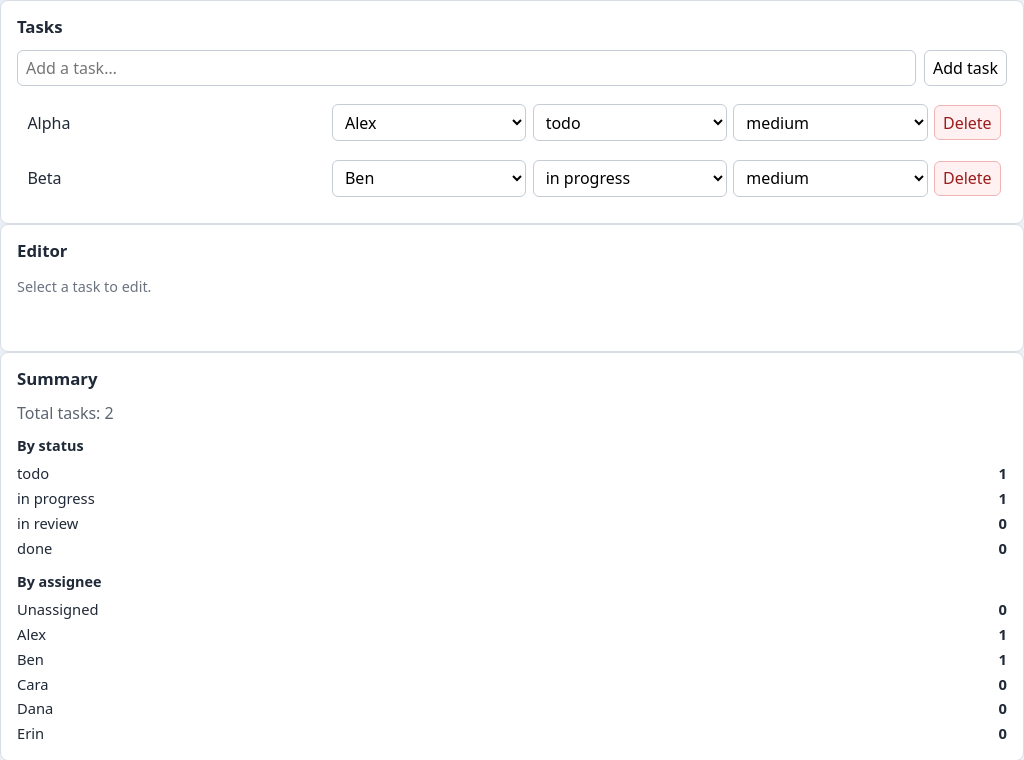
Test: Board integration › updates list/summary/grouping when assignee changes in the editor
Click the button "Alpha" at {"x": 49, "y": 123}, box [23,108,326,138]
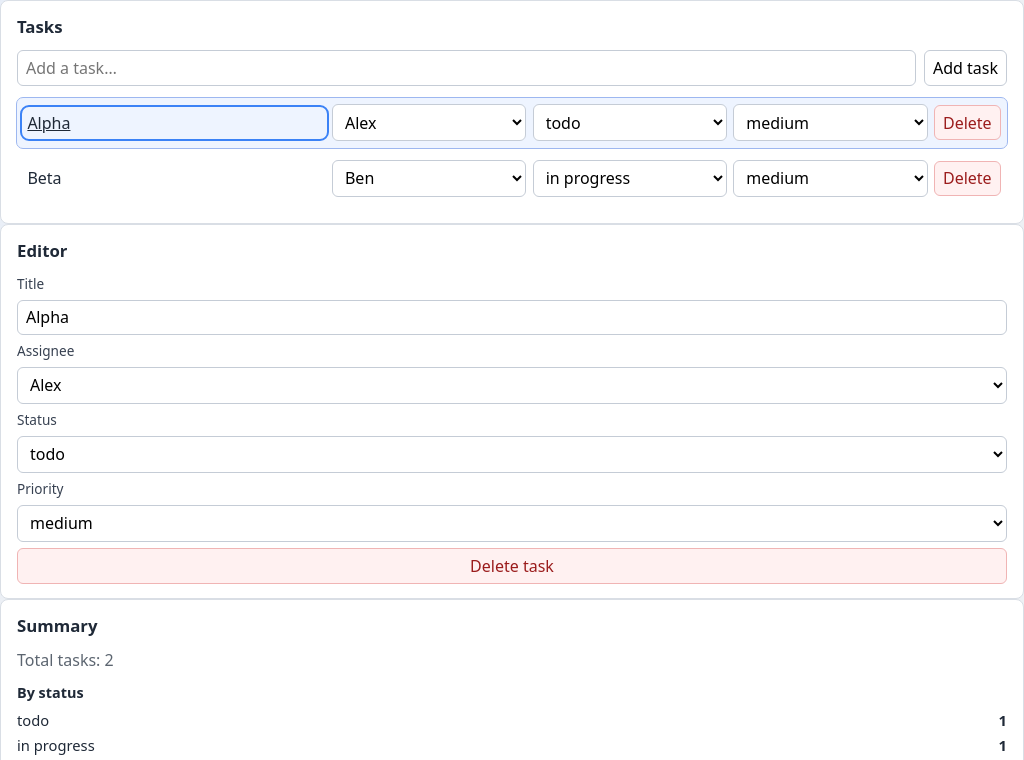
Select "Cara" in the dropdown labelled "Assignee" at {"x": 512, "y": 385}, box [17,367,1007,404]
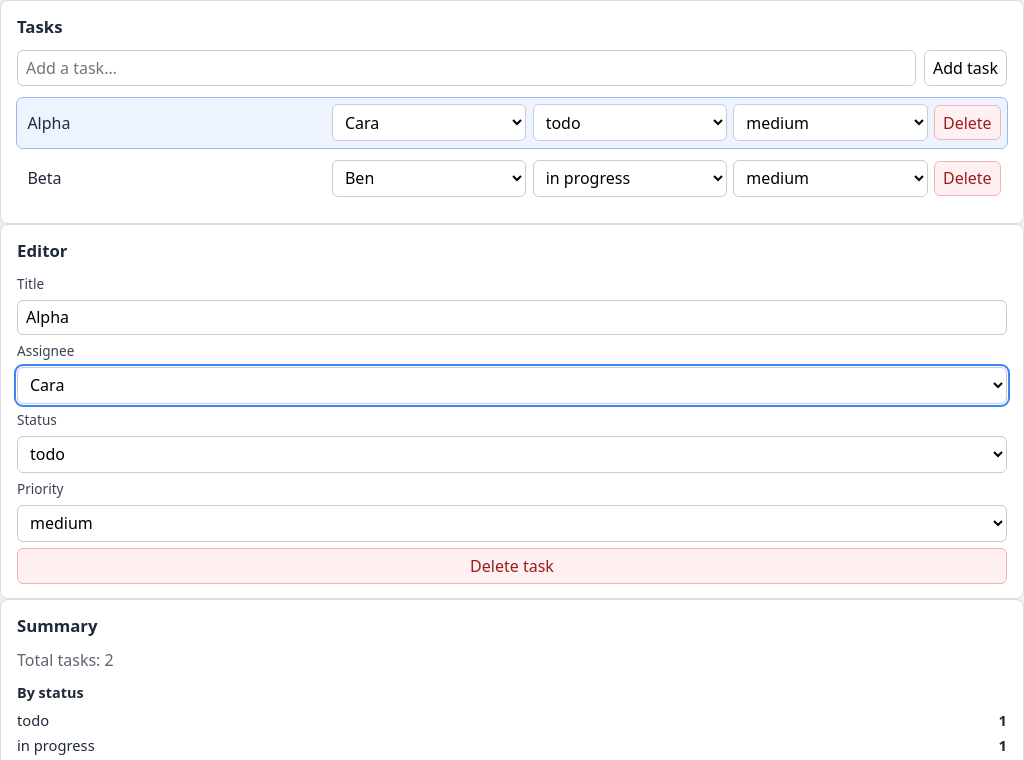
Result: the 1st dropdown showing "Cara" is shown at [332,104,526,141]
